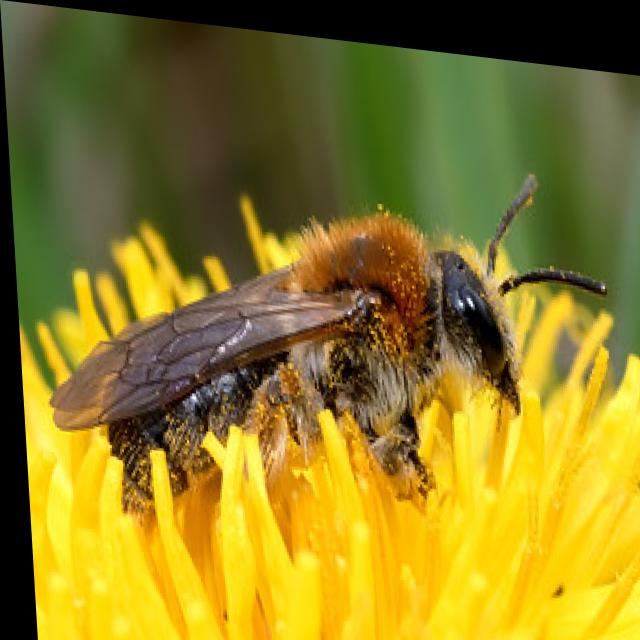Abeille: (20, 110, 631, 547)
